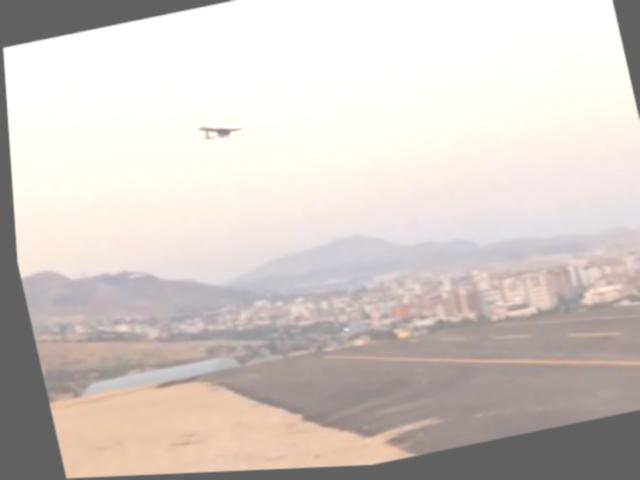uav: (186, 113, 247, 151)
